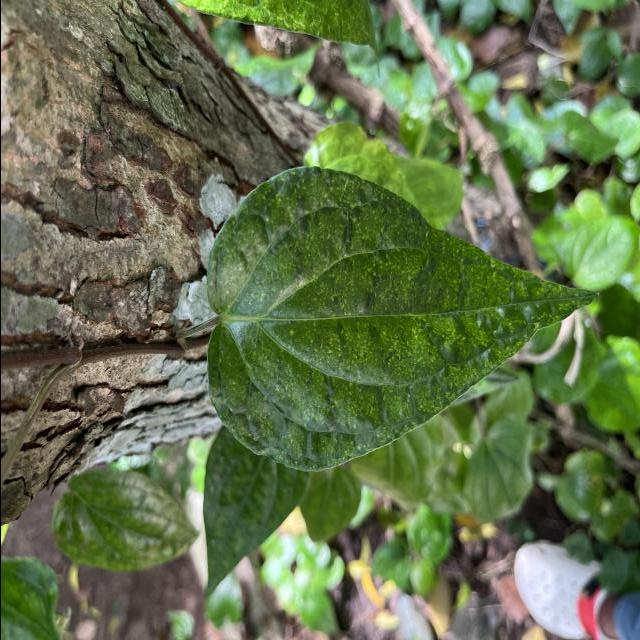Piper betle: (198, 162, 601, 474)
